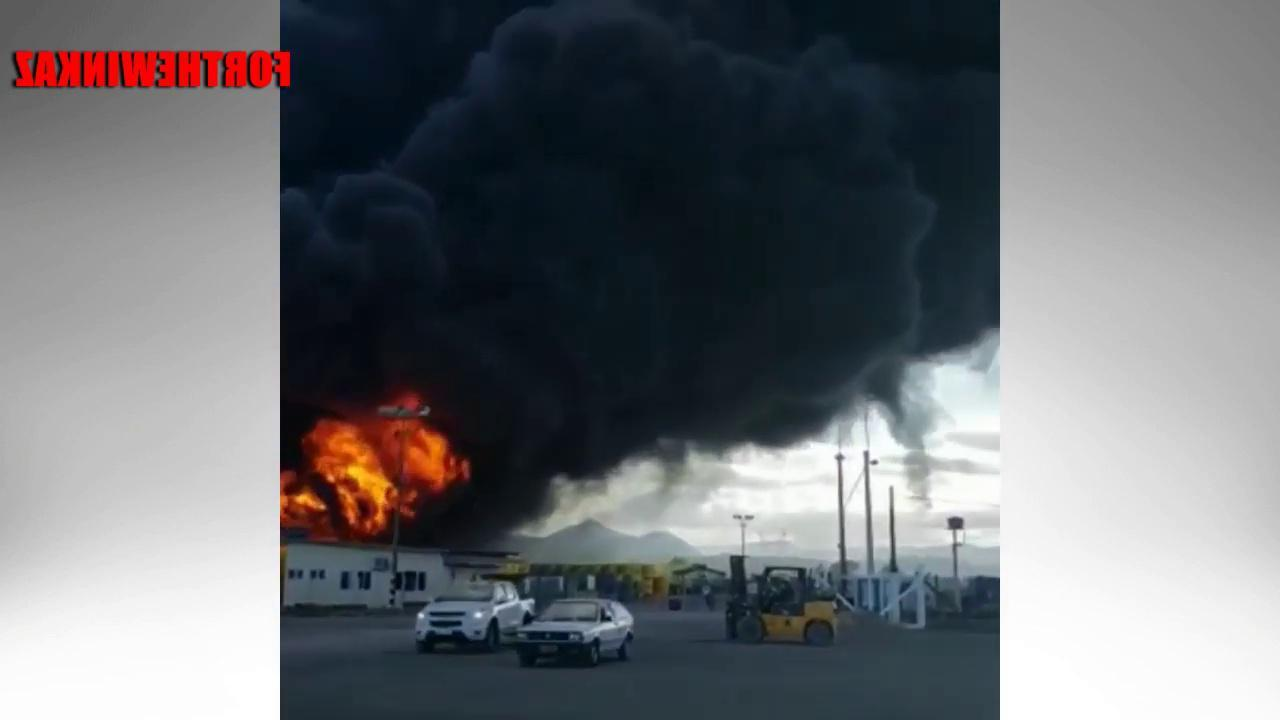Fire: (283, 383, 474, 544)
